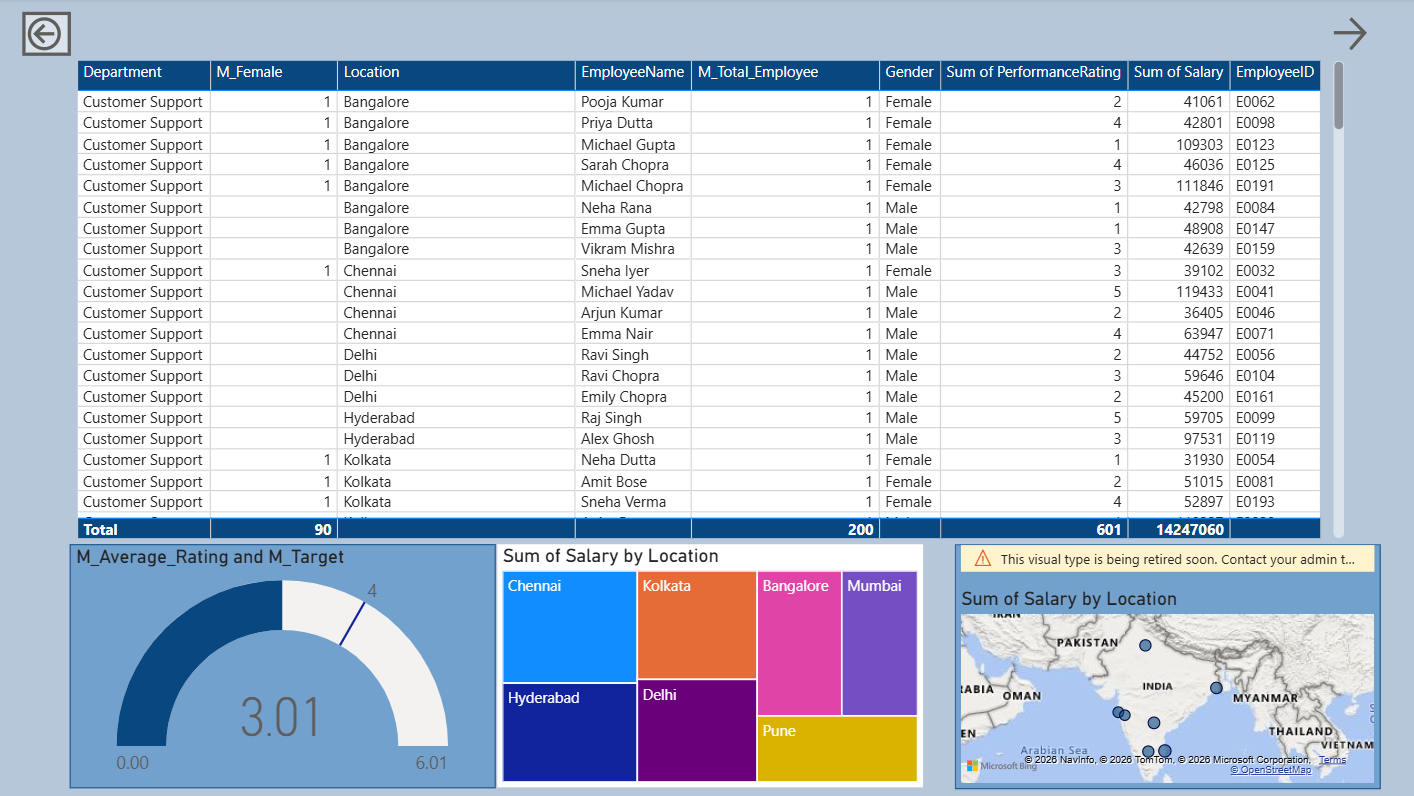

This screenshot's page, from the dashboard's own definition file:
{"tool":"powerbi","page":{"name":"Detailed Page","canvas":[1280,720],"ordinal":2},"visuals":[{"type":"tableEx","fields":{"Values":["Sheet1.Department","Sheet1.M_Female","Sheet1.Location","Sheet1.EmployeeName","Sheet1.M_Total_Employee","Sheet1.Gender","Sum(Sheet1.PerformanceRating)","Sum(Sheet1.Salary)","Sheet1.EmployeeID"]},"box":[67.2,52.1,1152.7,440.5],"z":0},{"type":"actionButton","box":[23.3,12.3,43.9,39.8],"z":1000},{"type":"actionButton","box":[1200.7,12.3,57.6,39.8],"z":2000},{"type":"treemap","fields":{"Values":["Sum(Sheet1.Salary)"],"Group":["Sheet1.Location"]},"box":[451.5,492.6,384.2,219.6],"z":3000},{"type":"gauge","fields":{"Y":["Sheet1.M_Average_Rating"],"TargetValue":["Sheet1.M_Target"]},"box":[67,493,384,220],"z":3001},{"type":"map","fields":{"Category":["Sheet1.Location"],"Size":["Sum(Sheet1.Salary)"]},"box":[864.5,492.6,384.2,220.9],"z":3002}]}

Visuals, with their boxes in screenshot pixels (x1, y1, x2, y2), scaled from the page's 1280x720 canvas onto the 1414x796 screenshot:
tableEx - Sheet1.Department x Sheet1.M_Female: crop(74, 58, 1348, 545)
actionButton: crop(26, 14, 74, 58)
actionButton: crop(1326, 14, 1390, 58)
treemap - Sum(Sheet1.Salary) x Sheet1.Location: crop(499, 545, 923, 787)
gauge - Sheet1.M_Average_Rating x Sheet1.M_Target: crop(74, 545, 498, 788)
map - Sheet1.Location x Sum(Sheet1.Salary): crop(955, 545, 1379, 789)
